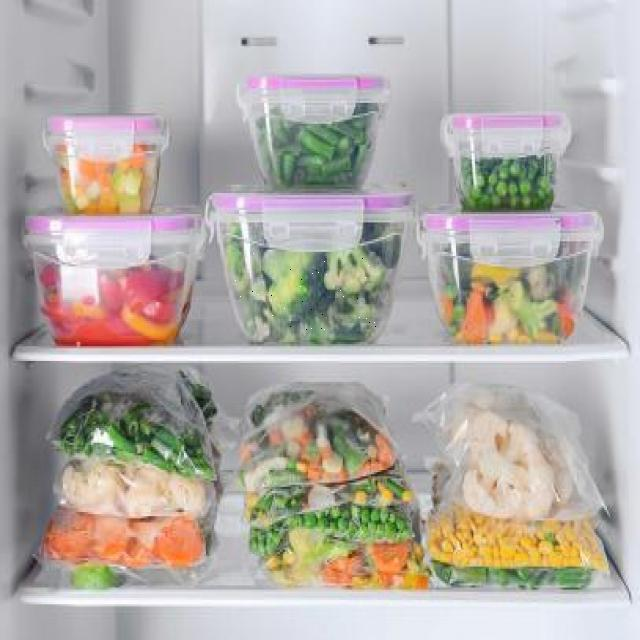broccoli: (230, 250, 378, 332)
